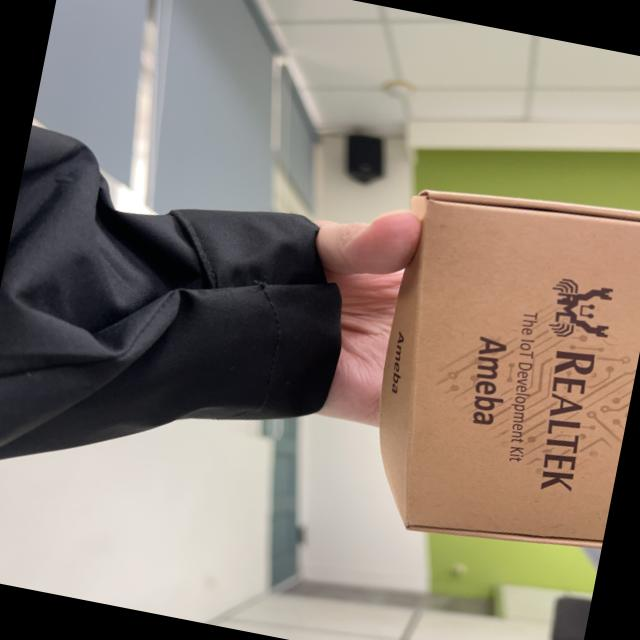box: (327, 158, 640, 570)
